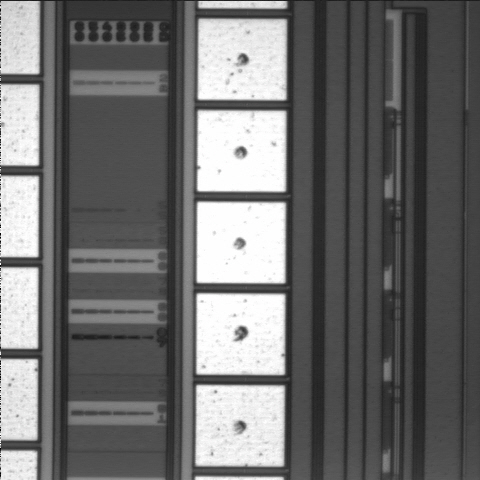pad: (197, 110, 286, 192), (196, 293, 285, 375), (198, 19, 287, 100), (197, 202, 286, 283), (196, 385, 285, 466)
